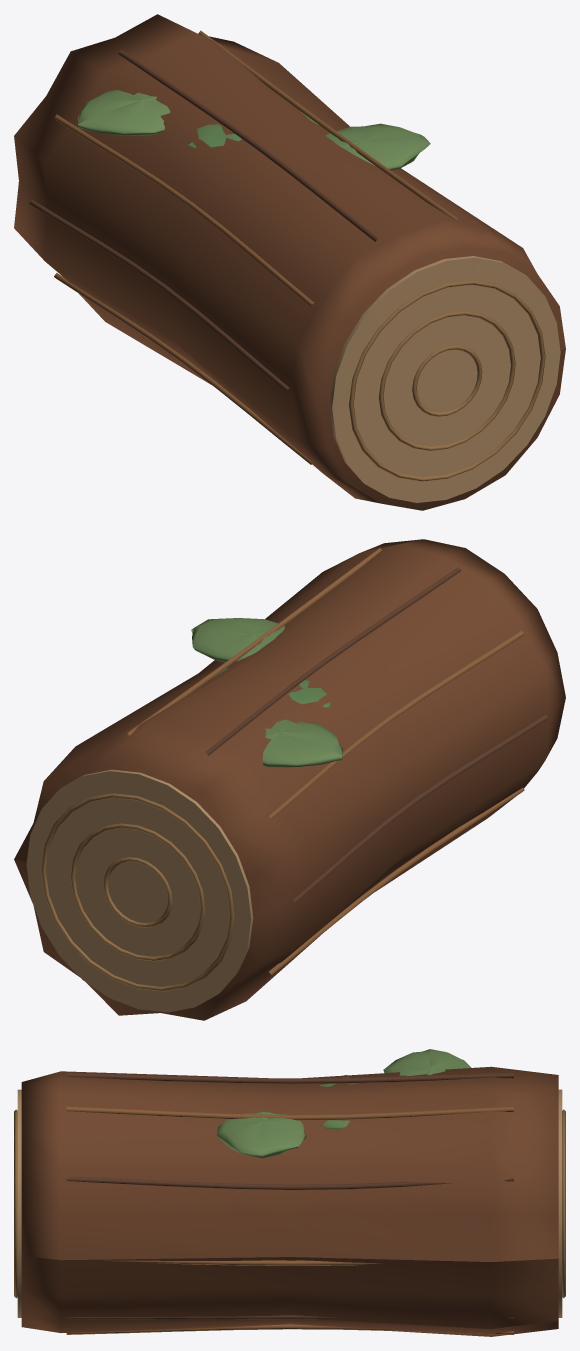
Rendered from tronco.glb.
The picture shows the model from 3 angles, top to bottom: view 1: azimuth 30°, elevation 25°; view 2: azimuth 150°, elevation 25°; view 3: azimuth 270°, elevation 25°; orthographic projection. The views are drawn at different scales.
Parts seen in each view (by area): view 1: tronco; view 2: tronco; view 3: tronco.
Part boxes in pixels (box(x1,y1,x2,y2)): tronco: box(14, 14, 565, 510); tronco: box(14, 539, 565, 1020); tronco: box(14, 1049, 565, 1336).
Bounding box in the file's own units: 0.4827 × 0.4849 × 0.987.
